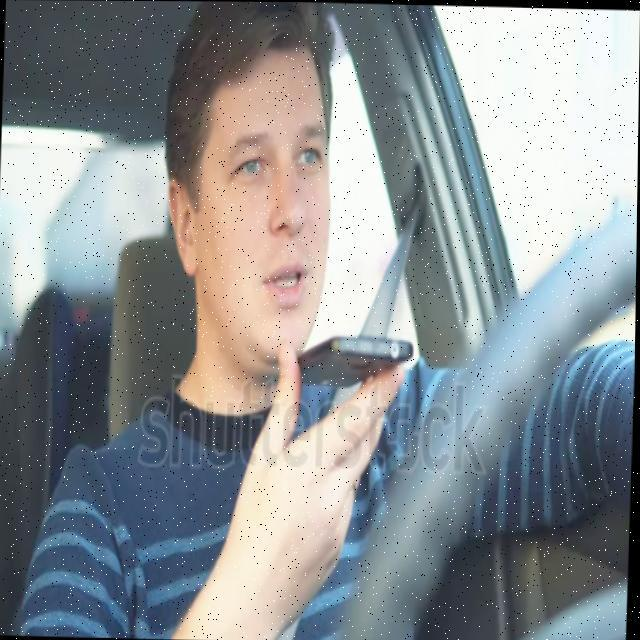PhoneCall: (284, 328, 420, 384)
